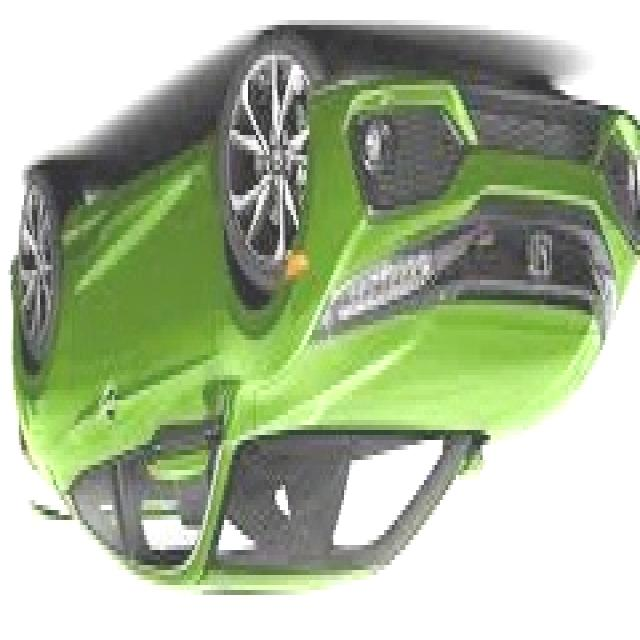green: (7, 33, 640, 602)
